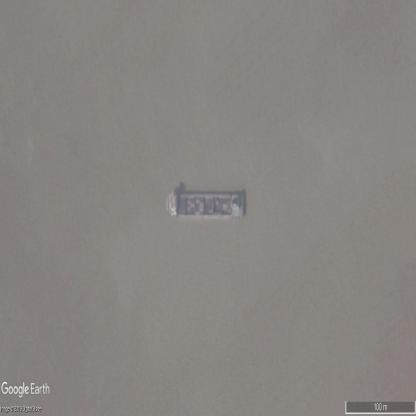ship: (166, 191, 245, 220)
